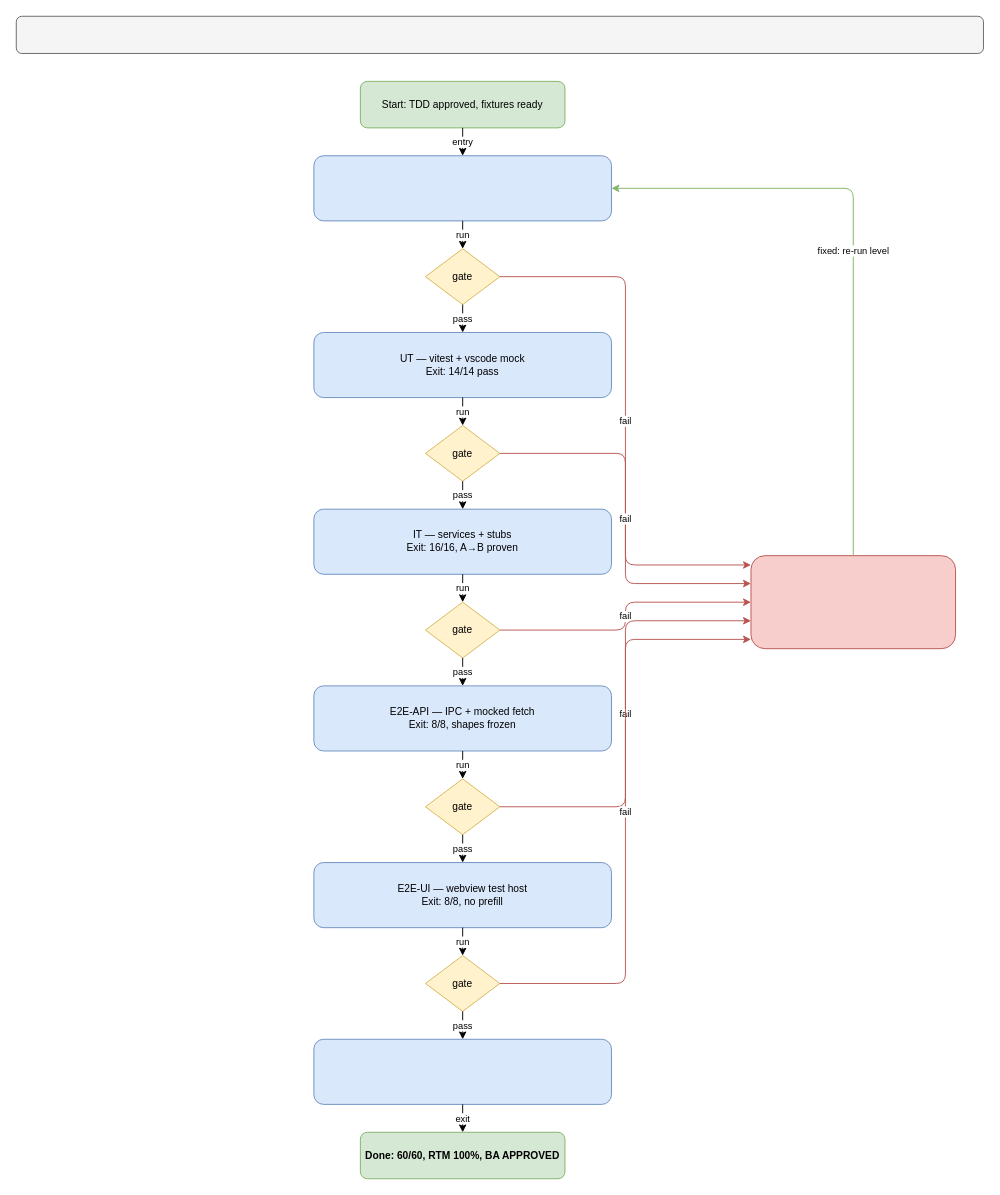
This 1000x1195 diagram has some shape labels left out. Each missing label, with the centre of its shape:
"Defect fix at root cause + re-run level & isolation pair" belongs at pixel 853 602.
"PBT — fast-check Exit: 6/6 pass, 100+ runs each" belongs at pixel 462 188.
"SIT — manual lab (2 ws + servers) Exit: 8/8, 0 Critical" belongs at pixel 462 1071.
"Test Execution Flow — SA4E-323 pipeline with entry/exit gates and defect loop" belongs at pixel 499 34.
